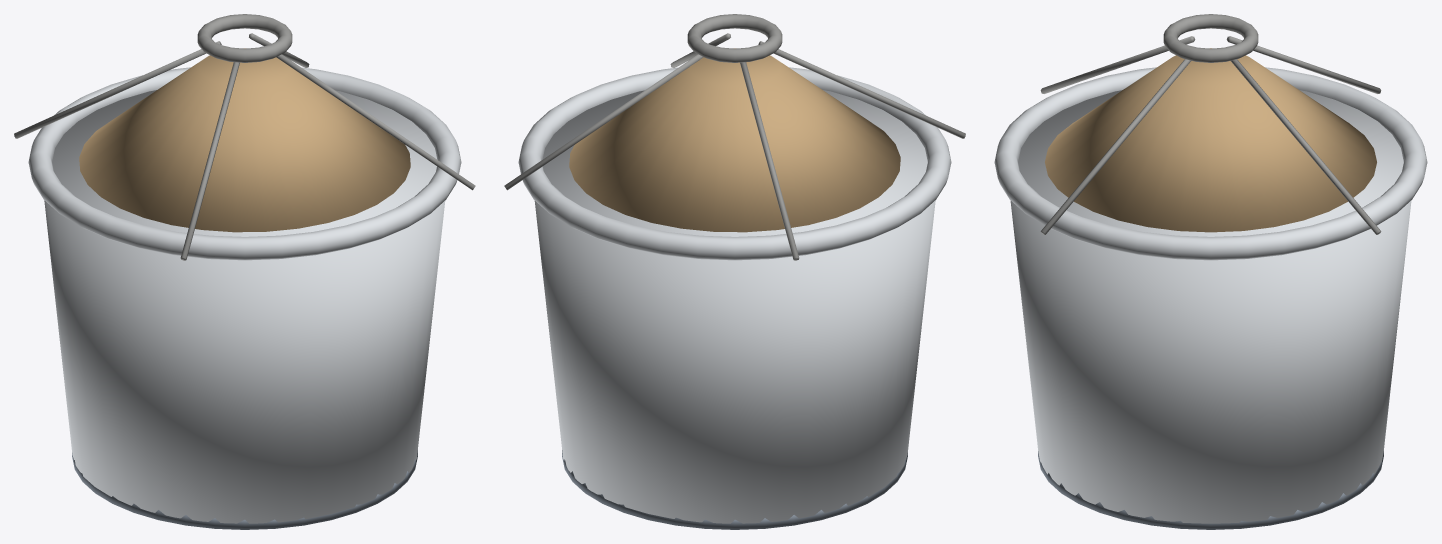
Rendered from sand_bucket.glb.
The picture shows the model from 3 angles, left to right: view 1: azimuth 30°, elevation 25°; view 2: azimuth 150°, elevation 25°; view 3: azimuth 270°, elevation 25°; orthographic projection.
Visible parts, largest first — view 1: bucket, sand, bucket_rim, hang_ring, bucket_bottom, string_rn, string_lf, string_ln; view 2: bucket, sand, bucket_rim, hang_ring, bucket_bottom, string_rf, string_ln, string_lf; view 3: bucket, sand, bucket_rim, hang_ring, bucket_bottom, string_rf, string_rn, string_lf, string_ln.
Boxes of the visible parts, bbox=[...] form: bucket: bbox=[44, 90, 445, 523]; sand: bbox=[79, 48, 410, 232]; bucket_rim: bbox=[28, 67, 461, 260]; hang_ring: bbox=[197, 14, 292, 62]; bucket_bottom: bbox=[72, 450, 417, 529]; string_rn: bbox=[276, 54, 475, 190]; string_lf: bbox=[14, 41, 221, 138]; string_ln: bbox=[180, 62, 239, 260]; bucket: bbox=[534, 90, 935, 523]; sand: bbox=[569, 48, 900, 232]; bucket_rim: bbox=[518, 67, 951, 260]; hang_ring: bbox=[687, 14, 782, 62]; bucket_bottom: bbox=[562, 450, 907, 529]; string_rf: bbox=[504, 54, 703, 190]; string_ln: bbox=[758, 41, 965, 138]; string_lf: bbox=[740, 62, 799, 260]; bucket: bbox=[1010, 90, 1411, 523]; sand: bbox=[1045, 48, 1376, 232]; bucket_rim: bbox=[994, 67, 1427, 260]; hang_ring: bbox=[1163, 14, 1258, 62]; bucket_bottom: bbox=[1038, 451, 1383, 529]; string_rf: bbox=[1230, 59, 1381, 234]; string_rn: bbox=[1040, 59, 1191, 234]; string_lf: bbox=[1226, 36, 1381, 93]; string_ln: bbox=[1040, 36, 1195, 93].
Bounding box in the file's own units: 0.0952 × 0.103 × 0.0952.
